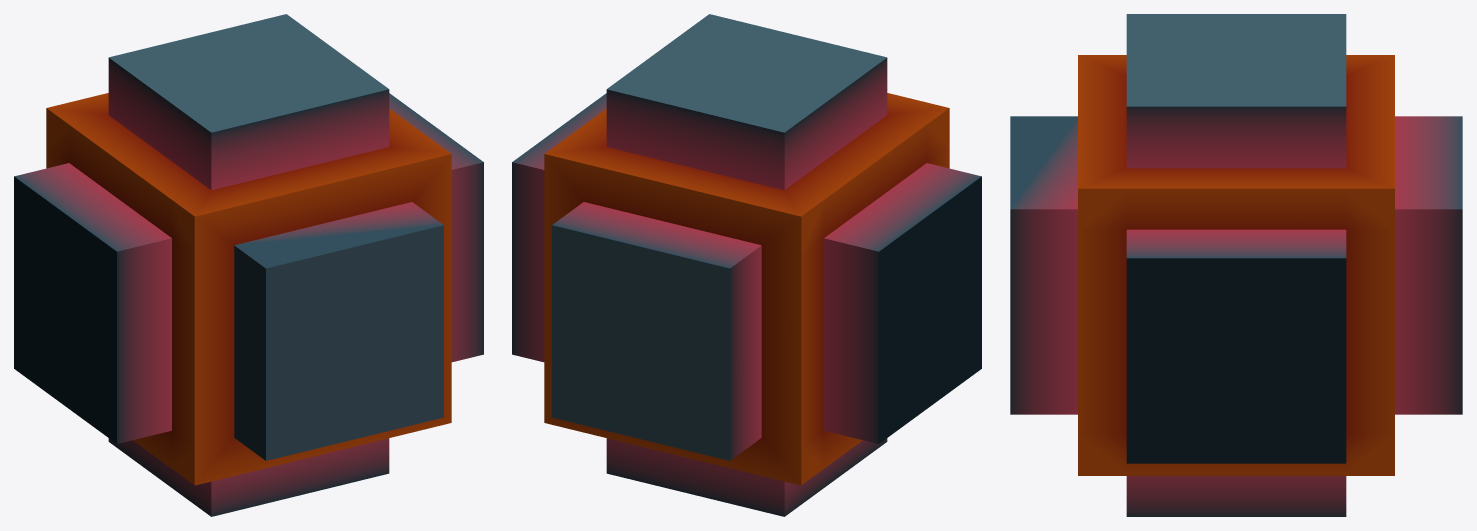
File: AB_Meteor_MESH.fbx
The picture shows the model from 3 angles, left to right: view 1: azimuth 30°, elevation 25°; view 2: azimuth 150°, elevation 25°; view 3: azimuth 270°, elevation 25°; orthographic projection. The views are drawn at different scales.
Parts seen in each view (by area): view 1: AB_Meteor_MESH; view 2: AB_Meteor_MESH; view 3: AB_Meteor_MESH.
Part boxes in pixels (box(x1,y1,x2,y2)): AB_Meteor_MESH: box(14, 14, 483, 516); AB_Meteor_MESH: box(512, 14, 981, 516); AB_Meteor_MESH: box(1010, 14, 1462, 516).
Size of the model in its own units: 49.96 by 50 by 50.
